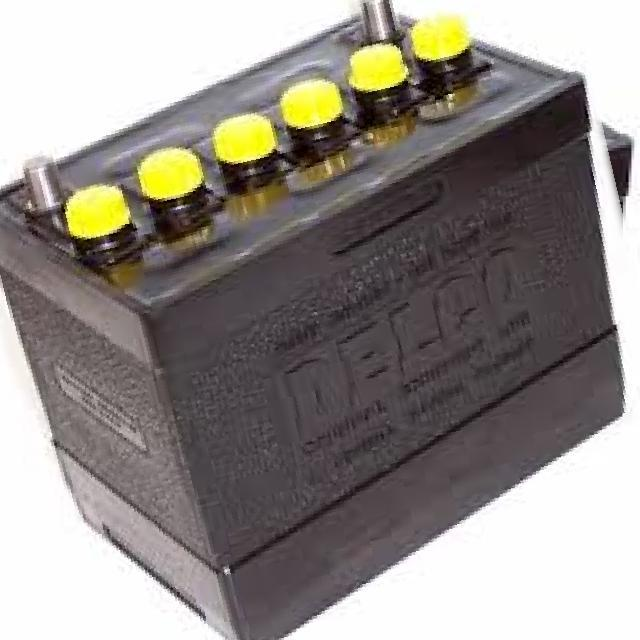Battery: (3, 0, 638, 628)
